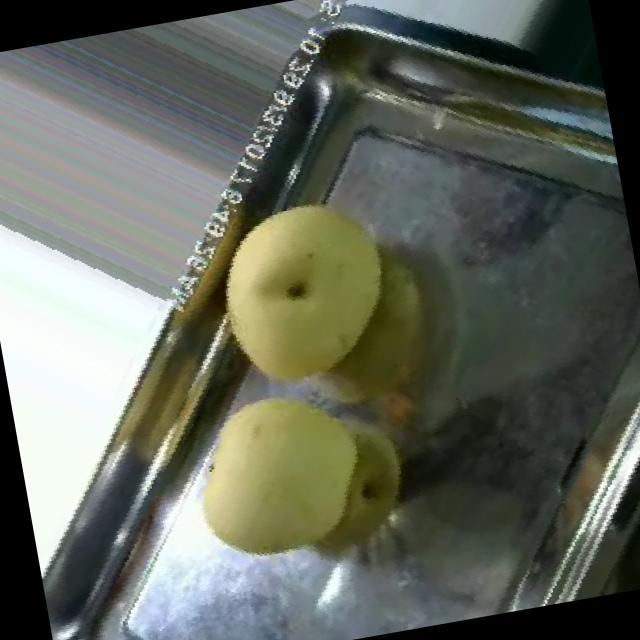Fruit: (156, 349, 435, 600), (182, 160, 438, 427)
